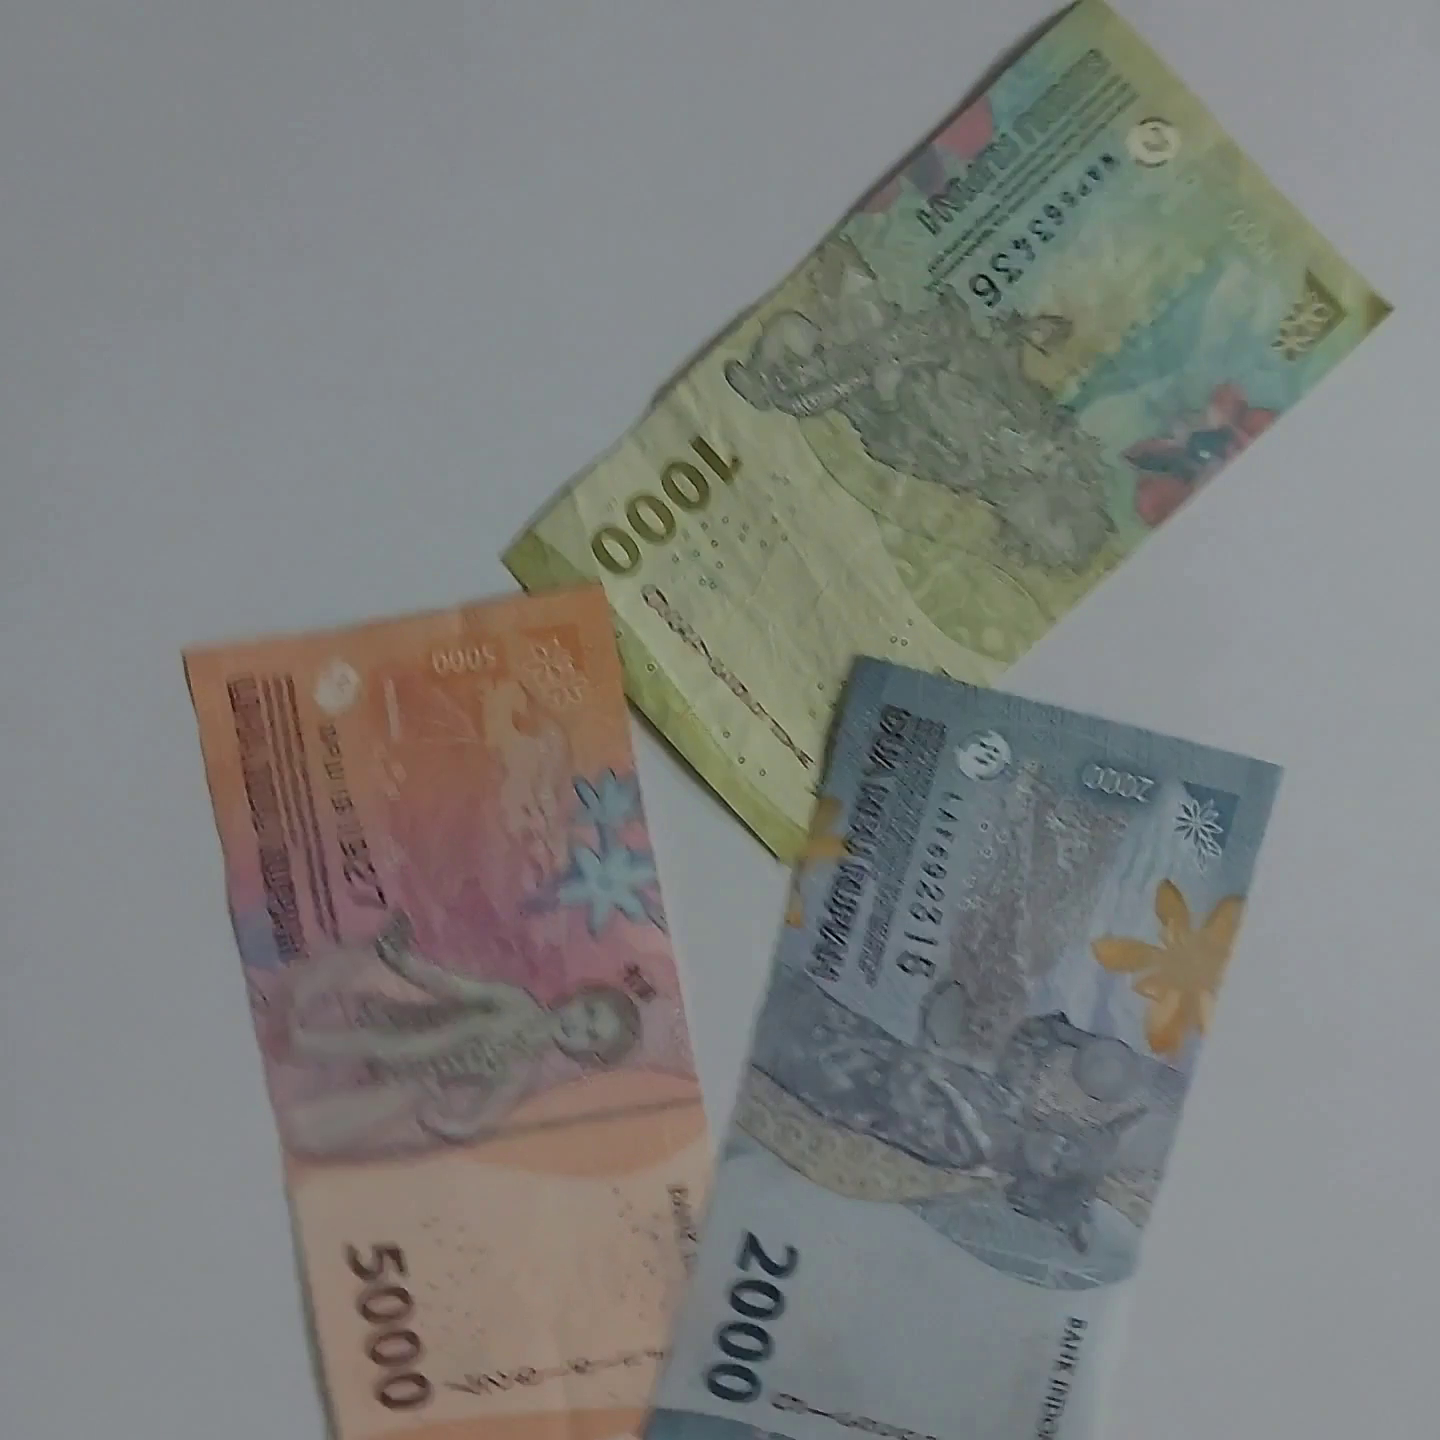1k: (1084, 0, 1440, 806)
2k: (905, 649, 1309, 1346)
5k: (183, 624, 662, 1427)
